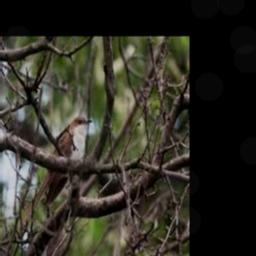Cuckoo: (17, 115, 91, 228)
